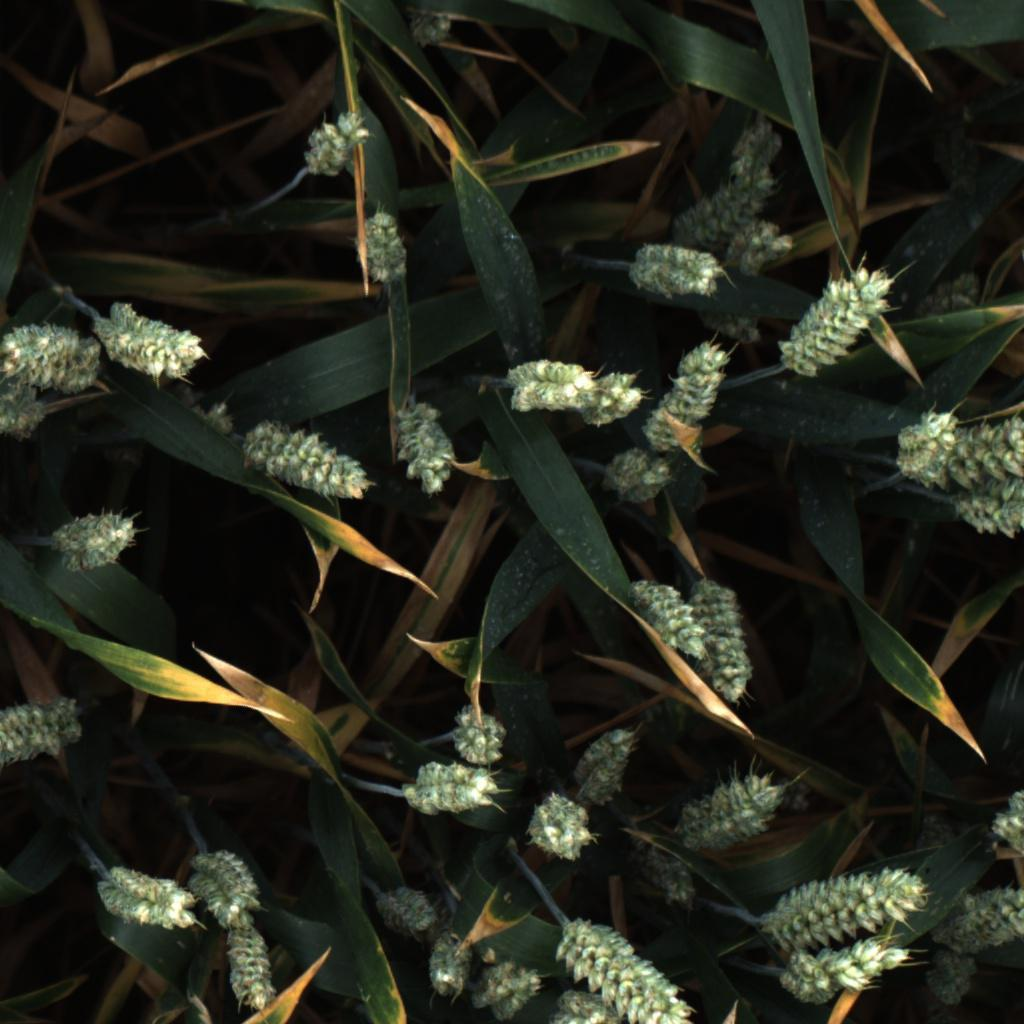0-0: (758, 862, 930, 959), (553, 918, 704, 1024), (774, 269, 891, 383), (243, 414, 373, 510), (635, 337, 732, 453), (686, 574, 760, 705), (916, 407, 1024, 494), (677, 769, 786, 852), (97, 303, 209, 381), (673, 167, 782, 247), (924, 882, 1024, 961), (95, 863, 200, 933), (619, 575, 705, 660), (390, 396, 458, 500), (0, 321, 100, 388), (811, 930, 915, 994), (891, 408, 967, 495), (0, 692, 89, 766), (47, 506, 141, 576), (504, 354, 603, 417), (402, 754, 502, 816), (627, 242, 726, 303), (948, 470, 1024, 546), (299, 108, 372, 187), (224, 920, 280, 1021), (621, 837, 702, 906), (569, 722, 639, 801), (521, 790, 596, 862), (187, 847, 265, 916), (183, 865, 258, 932), (719, 115, 790, 182), (355, 209, 416, 286), (906, 267, 983, 326), (576, 370, 647, 431), (722, 218, 794, 278), (461, 954, 533, 1012), (369, 882, 439, 940), (686, 300, 767, 347), (777, 946, 840, 1006), (612, 444, 671, 507), (399, 0, 466, 55), (449, 703, 510, 763), (423, 929, 473, 1001), (924, 944, 983, 1005), (487, 967, 545, 1023), (0, 384, 49, 445), (556, 987, 628, 1024), (989, 783, 1024, 859), (910, 812, 962, 860), (182, 397, 237, 442), (778, 777, 815, 813), (925, 993, 962, 1024), (545, 1011, 606, 1024)
